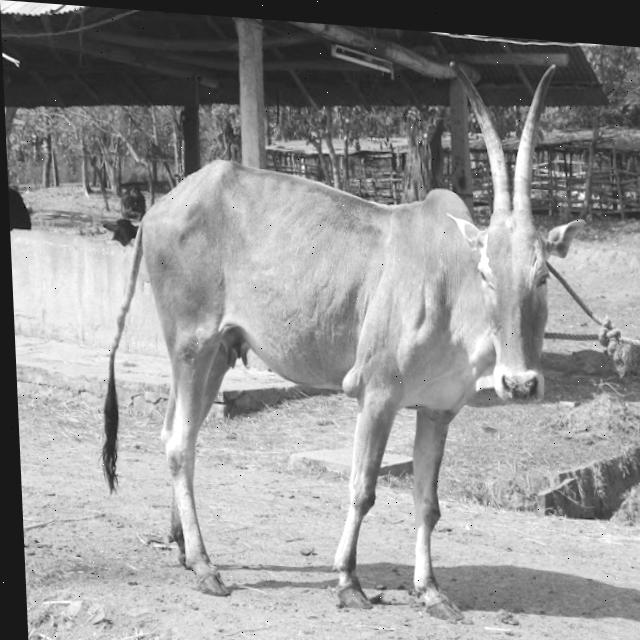Cow: (80, 26, 606, 633)
